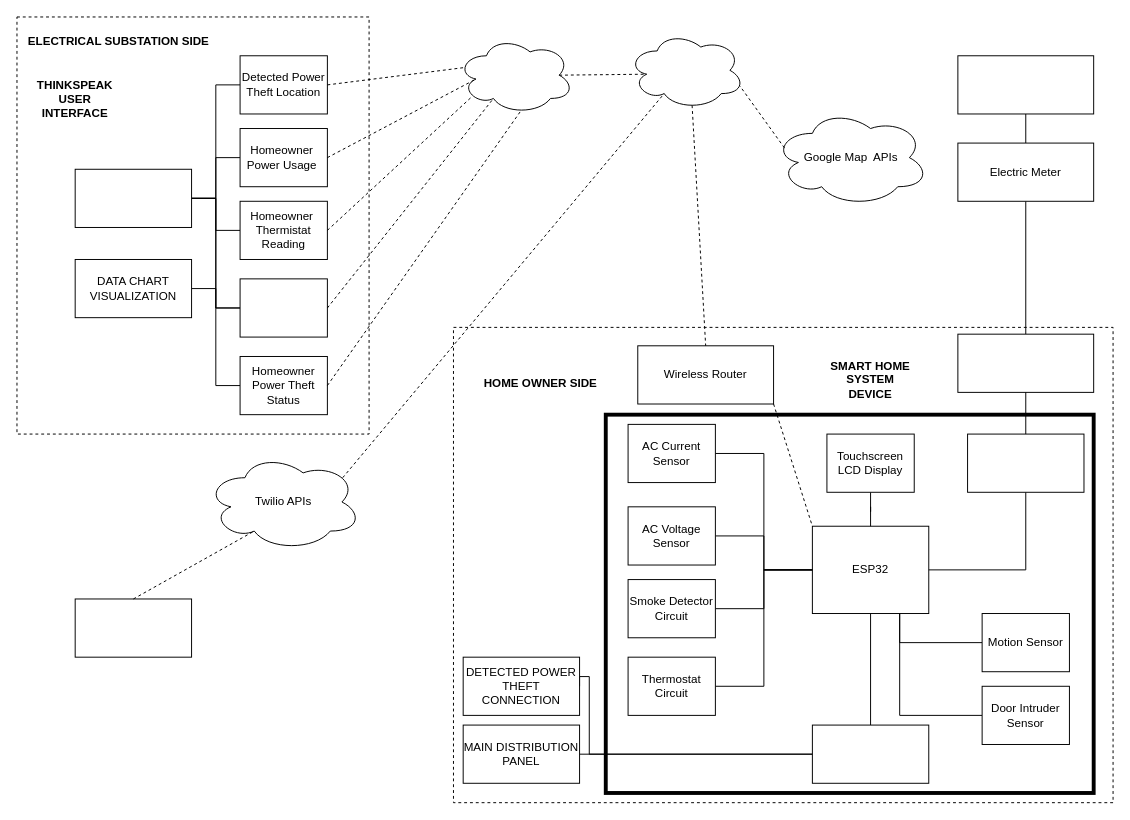
This 1130x820 diagram has some shape labels left out. The box of each missing label's shape, as (x1, y1, x2, y2) in pixels:
AC HIGH POWER RELAY: (811, 724, 929, 783)
AC/DC Converter: (967, 433, 1084, 492)
Breaker: (957, 333, 1094, 392)
DATA TABLE FORMAT: (74, 168, 192, 227)
Electrical Service Distribution Line: (957, 55, 1094, 114)
Home Owner Cellphone: (74, 598, 192, 657)
Homeowner Fire Detected Status: (239, 278, 327, 337)
Internet: (627, 31, 744, 109)
Thinkspeak: (456, 35, 574, 114)
